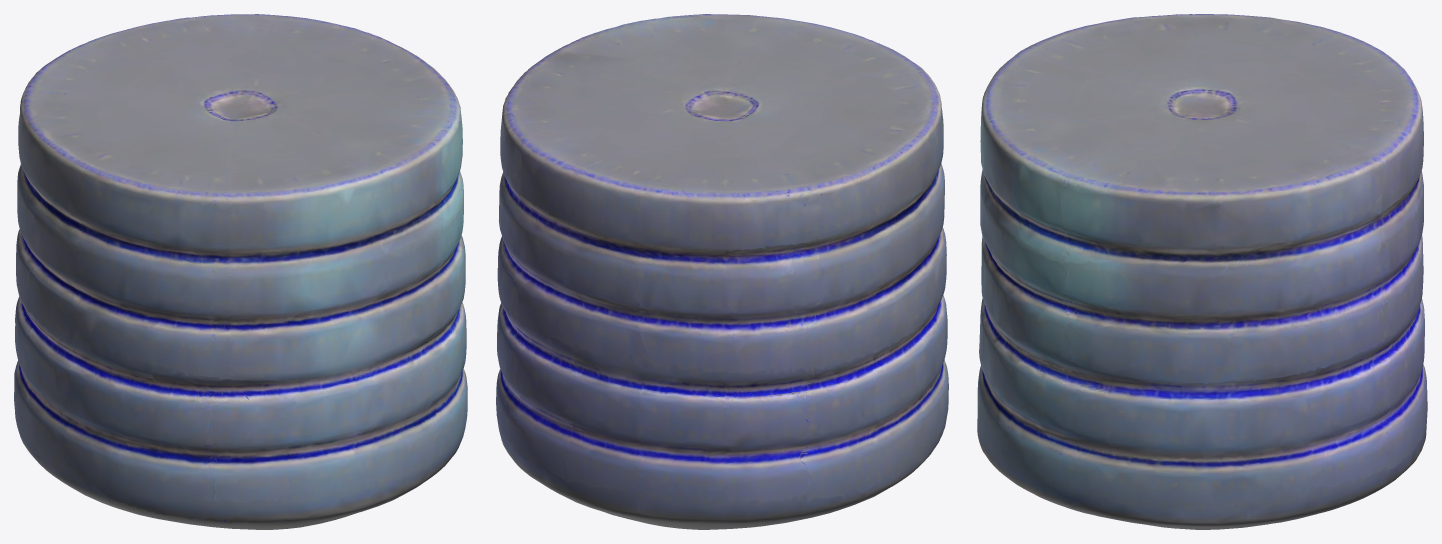
File: database-transformed.glb
The picture shows the model from 3 angles, left to right: view 1: azimuth 30°, elevation 25°; view 2: azimuth 150°, elevation 25°; view 3: azimuth 270°, elevation 25°; orthographic projection.
Visible parts, largest first — view 1: Object_4; view 2: Object_4; view 3: Object_4.
Part boxes in pixels (x1=…): Object_4: x1=14, y1=14, x2=467, y2=529; Object_4: x1=496, y1=14, x2=948, y2=529; Object_4: x1=977, y1=14, x2=1427, y2=529.
Bounding box in the file's own units: 0.7625 × 0.6961 × 0.772.
Materials: 1 (1 with a texture image).
